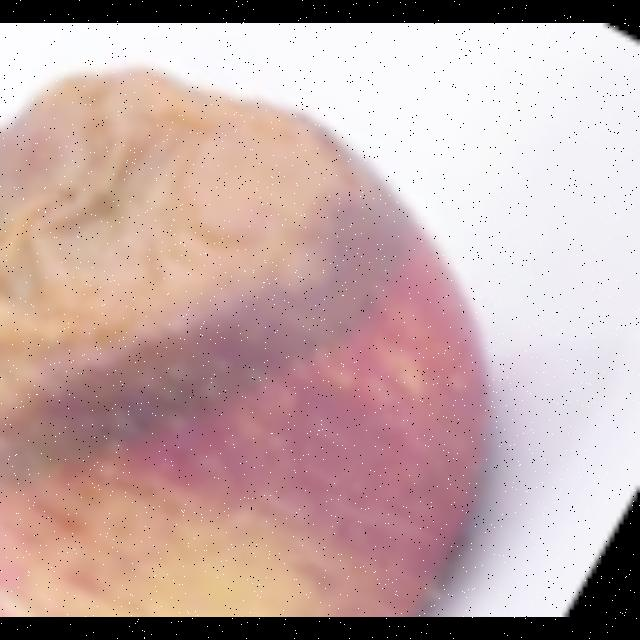Apel Tidak Segar: (0, 74, 495, 618)
